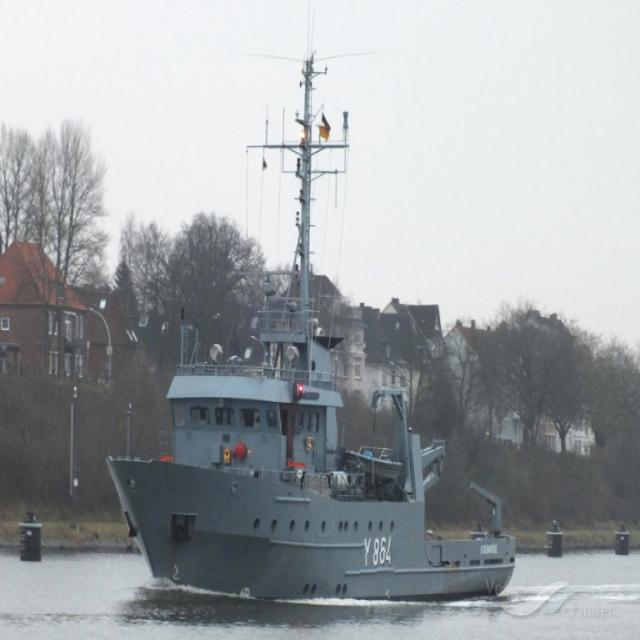OCR: (354, 531, 398, 578)
